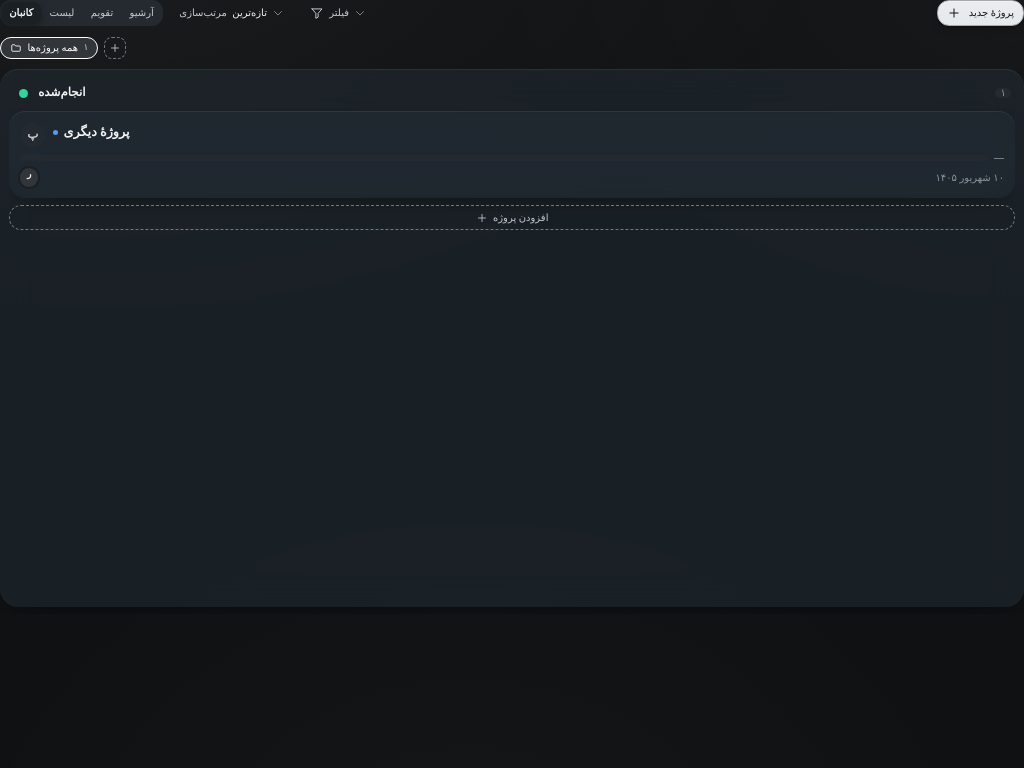
it: Projects › «مال من» with nothing of mine says WHICH nothing
Expected: the heading "پروژهٔ دیگری" is shown, [64, 122, 130, 142]
Click the button "فیلتر" at (338,13), box [301, 0, 376, 26]
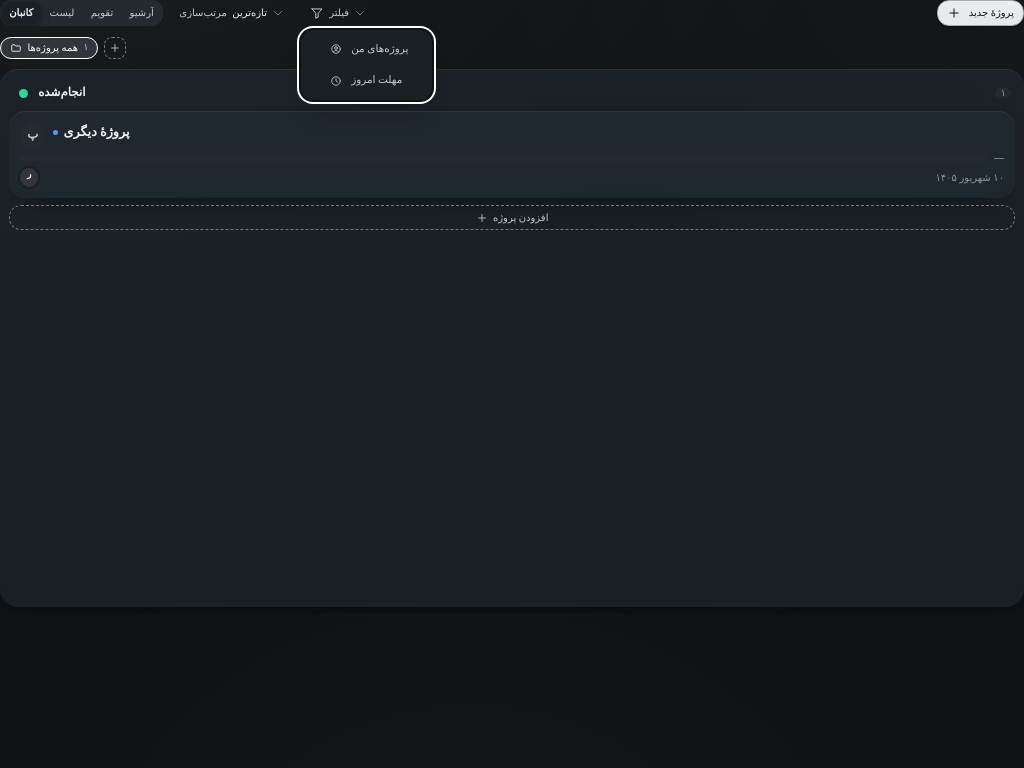
Click the menu item "پروژه‌های من" at (369,49), box [330, 43, 408, 55]
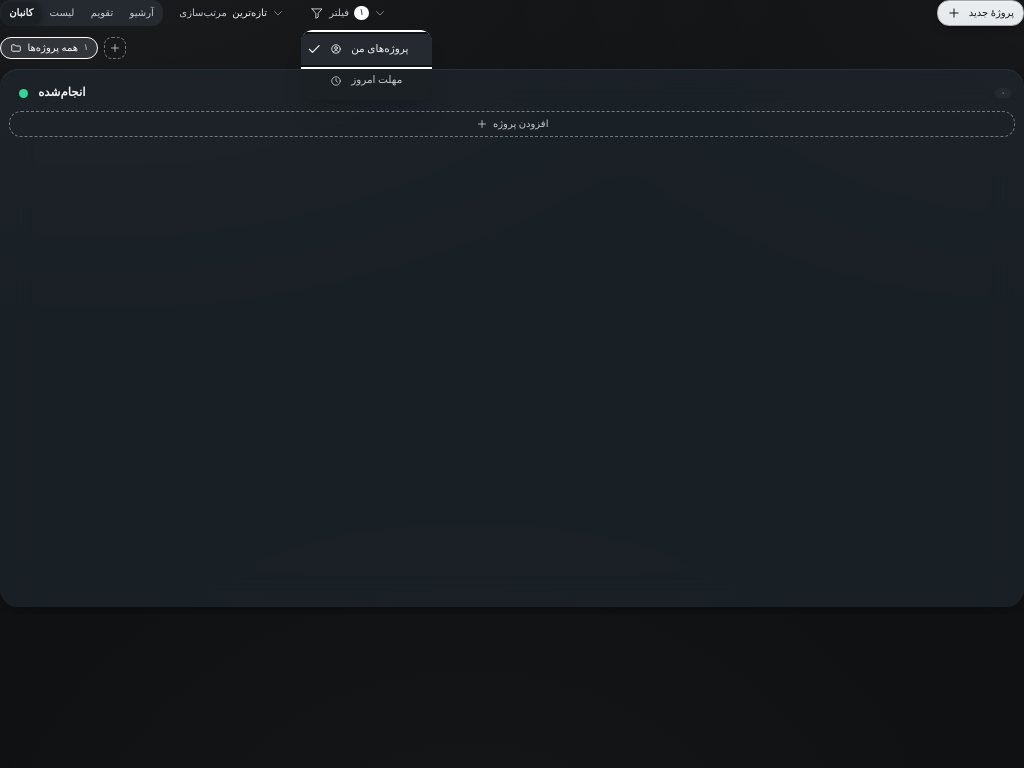
Click the button "لیست" at (62,13), box [42, 2, 82, 24]
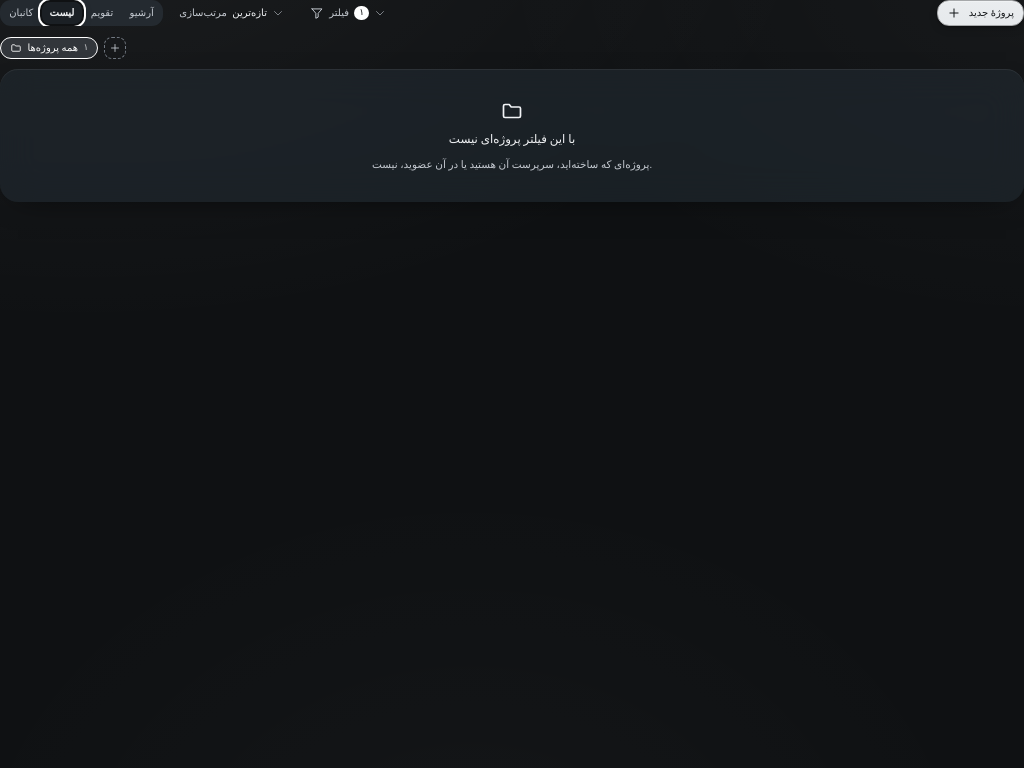
Result: the text "پروژه‌ای که ساخته‌اید، سرپرست آن هستید یا در آن عضوید، نیست." is shown at [372, 156, 652, 173]
